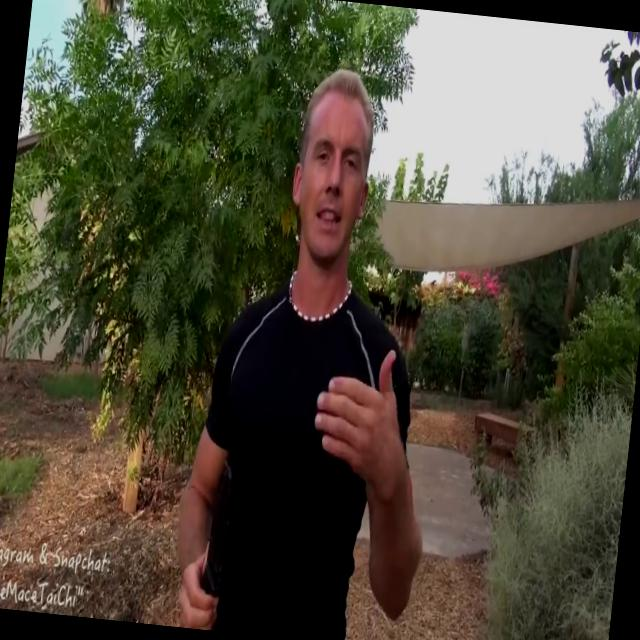knife: (198, 446, 246, 599)
